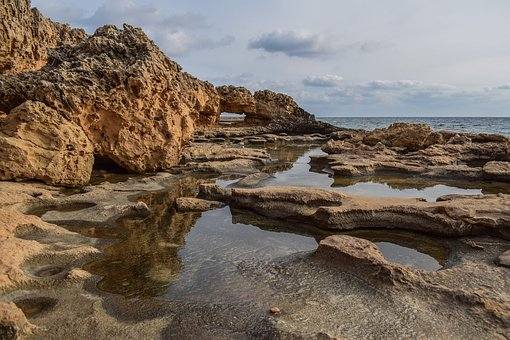sea: (24, 112, 510, 339)
sky: (217, 7, 510, 114)
stone: (21, 25, 259, 176)
